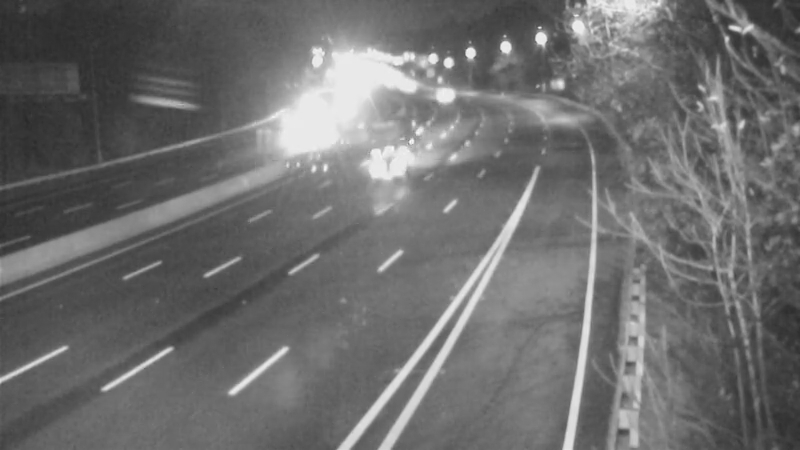vehicle: (351, 125, 431, 205), (367, 113, 417, 163)
